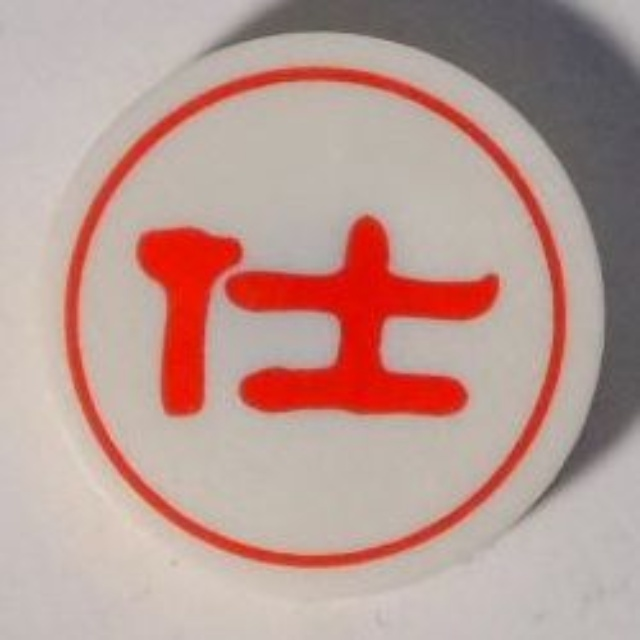red_si: (33, 28, 617, 590)
